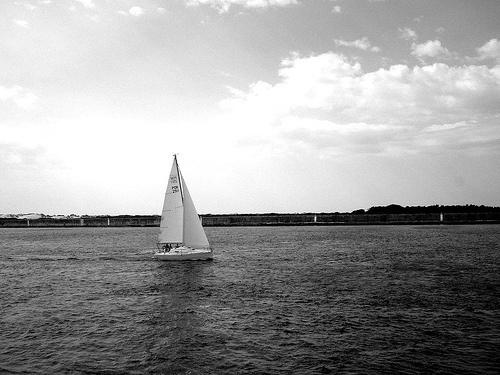boat: (153, 154, 216, 262)
